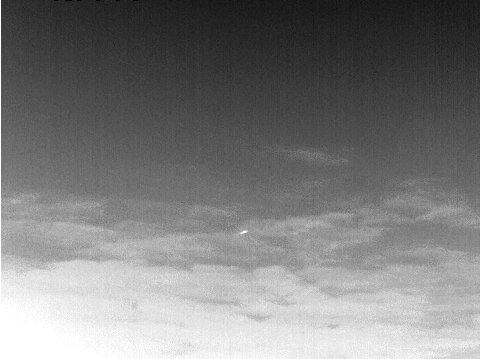dim target: (239, 229, 248, 235)
